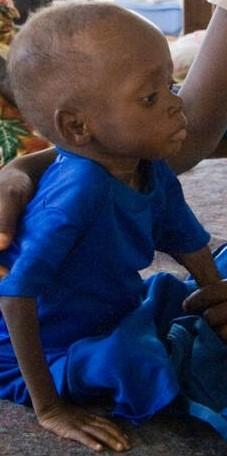Stunting: (18, 14, 212, 186)
